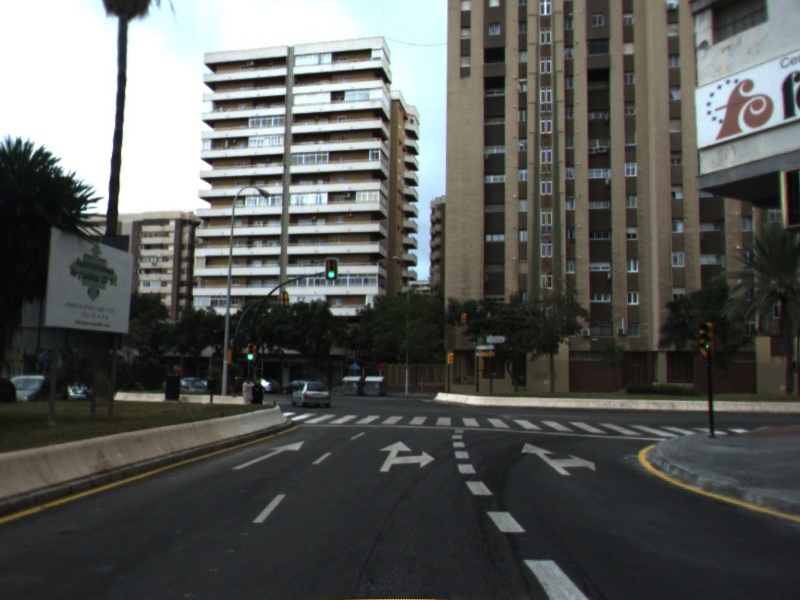STRAIGHT: (229, 439, 306, 472)
STRAIGHT_RIGHT: (519, 440, 598, 477), (376, 438, 437, 473)
